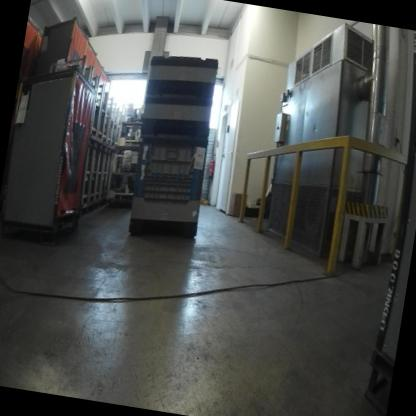stillage: (101, 143, 140, 206), (111, 104, 145, 147)
